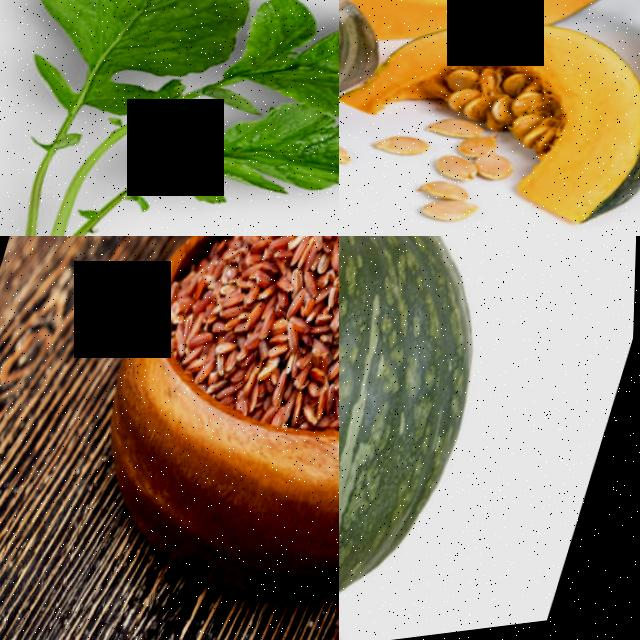pumpkin: (339, 236, 533, 640), (339, 0, 640, 236), (339, 0, 640, 67), (339, 0, 395, 168)
red rice: (146, 236, 339, 487)
